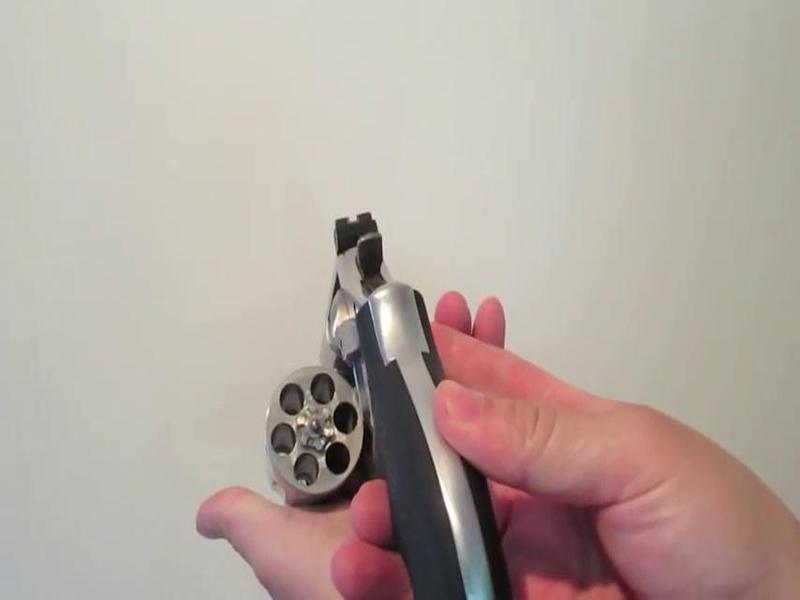Revolver: (259, 208, 579, 600)
